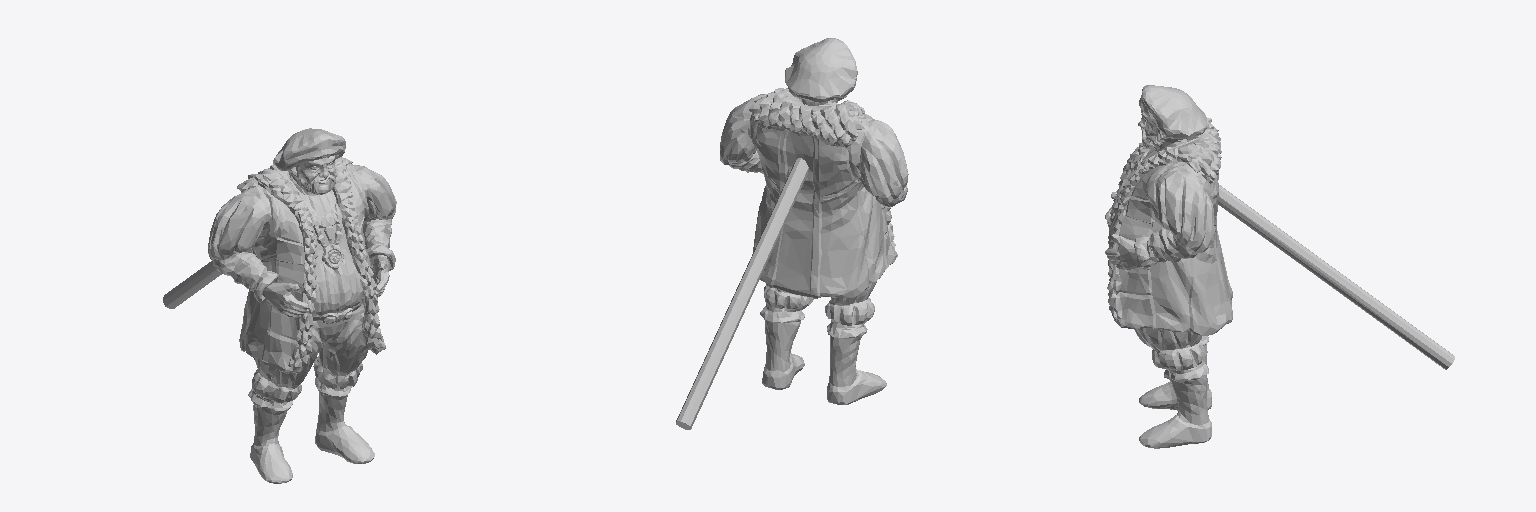
File: merchant.obj
3 views of the same model, side by side, from view 1: azimuth 30°, elevation 25°; view 2: azimuth 150°, elevation 25°; view 3: azimuth 270°, elevation 25° (orthographic).
Parts seen in each view (by area): view 1: merchant; view 2: merchant; view 3: merchant.
Part boxes in pixels (x1,y1,x2,y2): merchant: (163,128,396,483); merchant: (676,38,908,429); merchant: (1105,85,1454,448).
Size of the model in its own units: 0.9993 by 1.76 by 1.66.